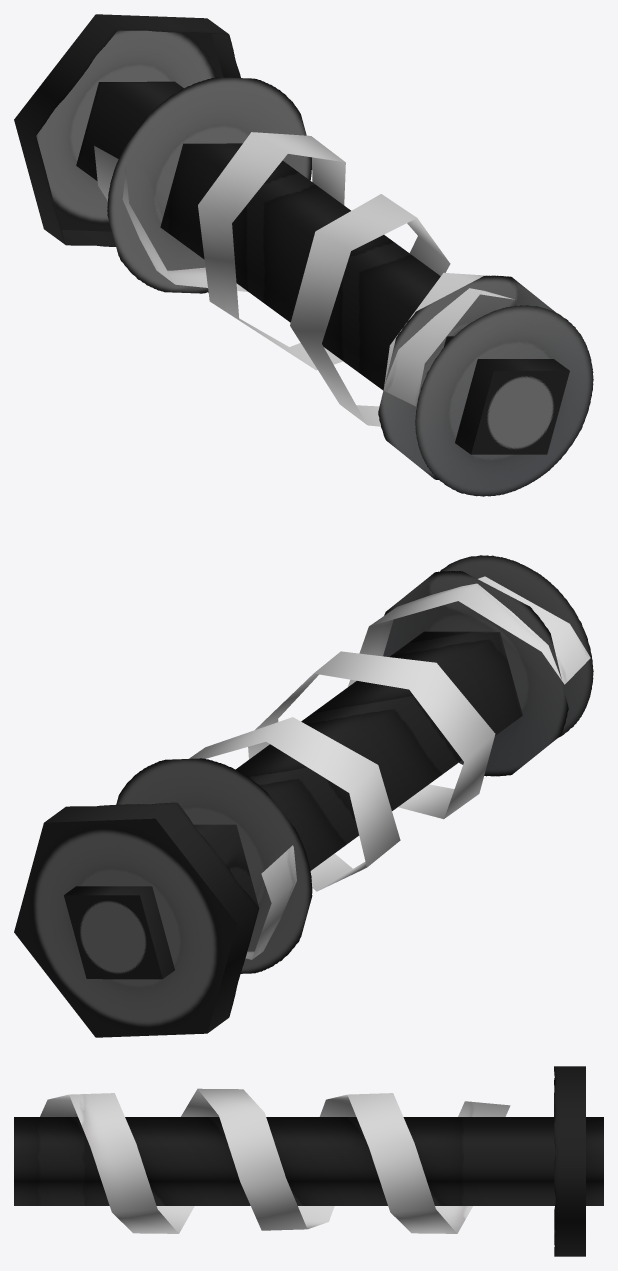
Rendered from obj_interactive_suspensionoffroad_03_off_lod1.fbx.
3 views of the same model, one above another, from view 1: azimuth 30°, elevation 25°; view 2: azimuth 150°, elevation 25°; view 3: azimuth 270°, elevation 25° (orthographic). The views are drawn at different scales.
Parts seen in each view (by area): view 1: obj_interactive_suspensionoffroad_03_off_lod1; view 2: obj_interactive_suspensionoffroad_03_off_lod1; view 3: obj_interactive_suspensionoffroad_03_off_lod1.
Part boxes in pixels (<box>): obj_interactive_suspensionoffroad_03_off_lod1: <box>14,14,593,496</box>; obj_interactive_suspensionoffroad_03_off_lod1: <box>14,555,593,1037</box>; obj_interactive_suspensionoffroad_03_off_lod1: <box>14,1066,603,1256</box>.
Size of the model in its own units: 1.02 by 1.02 by 3.23.
1 material, 1 textured.
